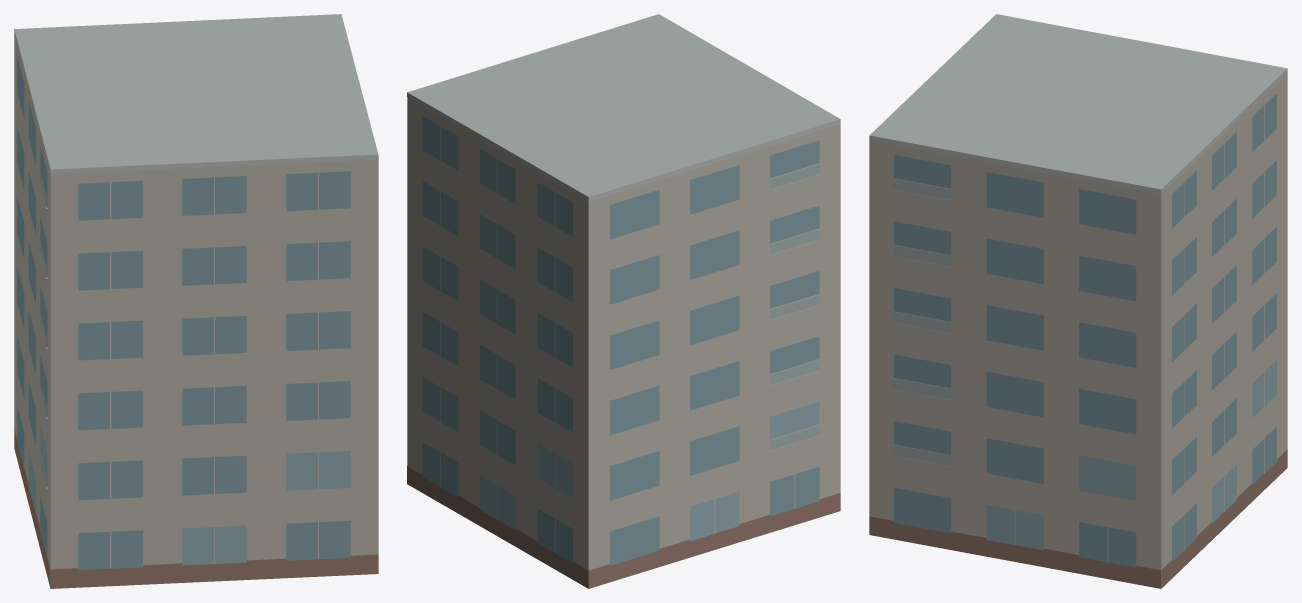
Rendered from survey-upis-32524114.glb.
3 views of the same model, side by side, from view 1: azimuth 30°, elevation 25°; view 2: azimuth 150°, elevation 25°; view 3: azimuth 270°, elevation 25° (orthographic). The views are drawn at different scales.
Parts seen in each view (by area): view 1: survey-upis-32524114.tmp; view 2: survey-upis-32524114.tmp; view 3: survey-upis-32524114.tmp.
Boxes of the visible parts, x1=… form: survey-upis-32524114.tmp: x1=14, y1=14, x2=378, y2=588; survey-upis-32524114.tmp: x1=407, y1=14, x2=840, y2=588; survey-upis-32524114.tmp: x1=869, y1=14, x2=1287, y2=588.
Size of the model in its own units: 18.75 by 19.9 by 18.9.
